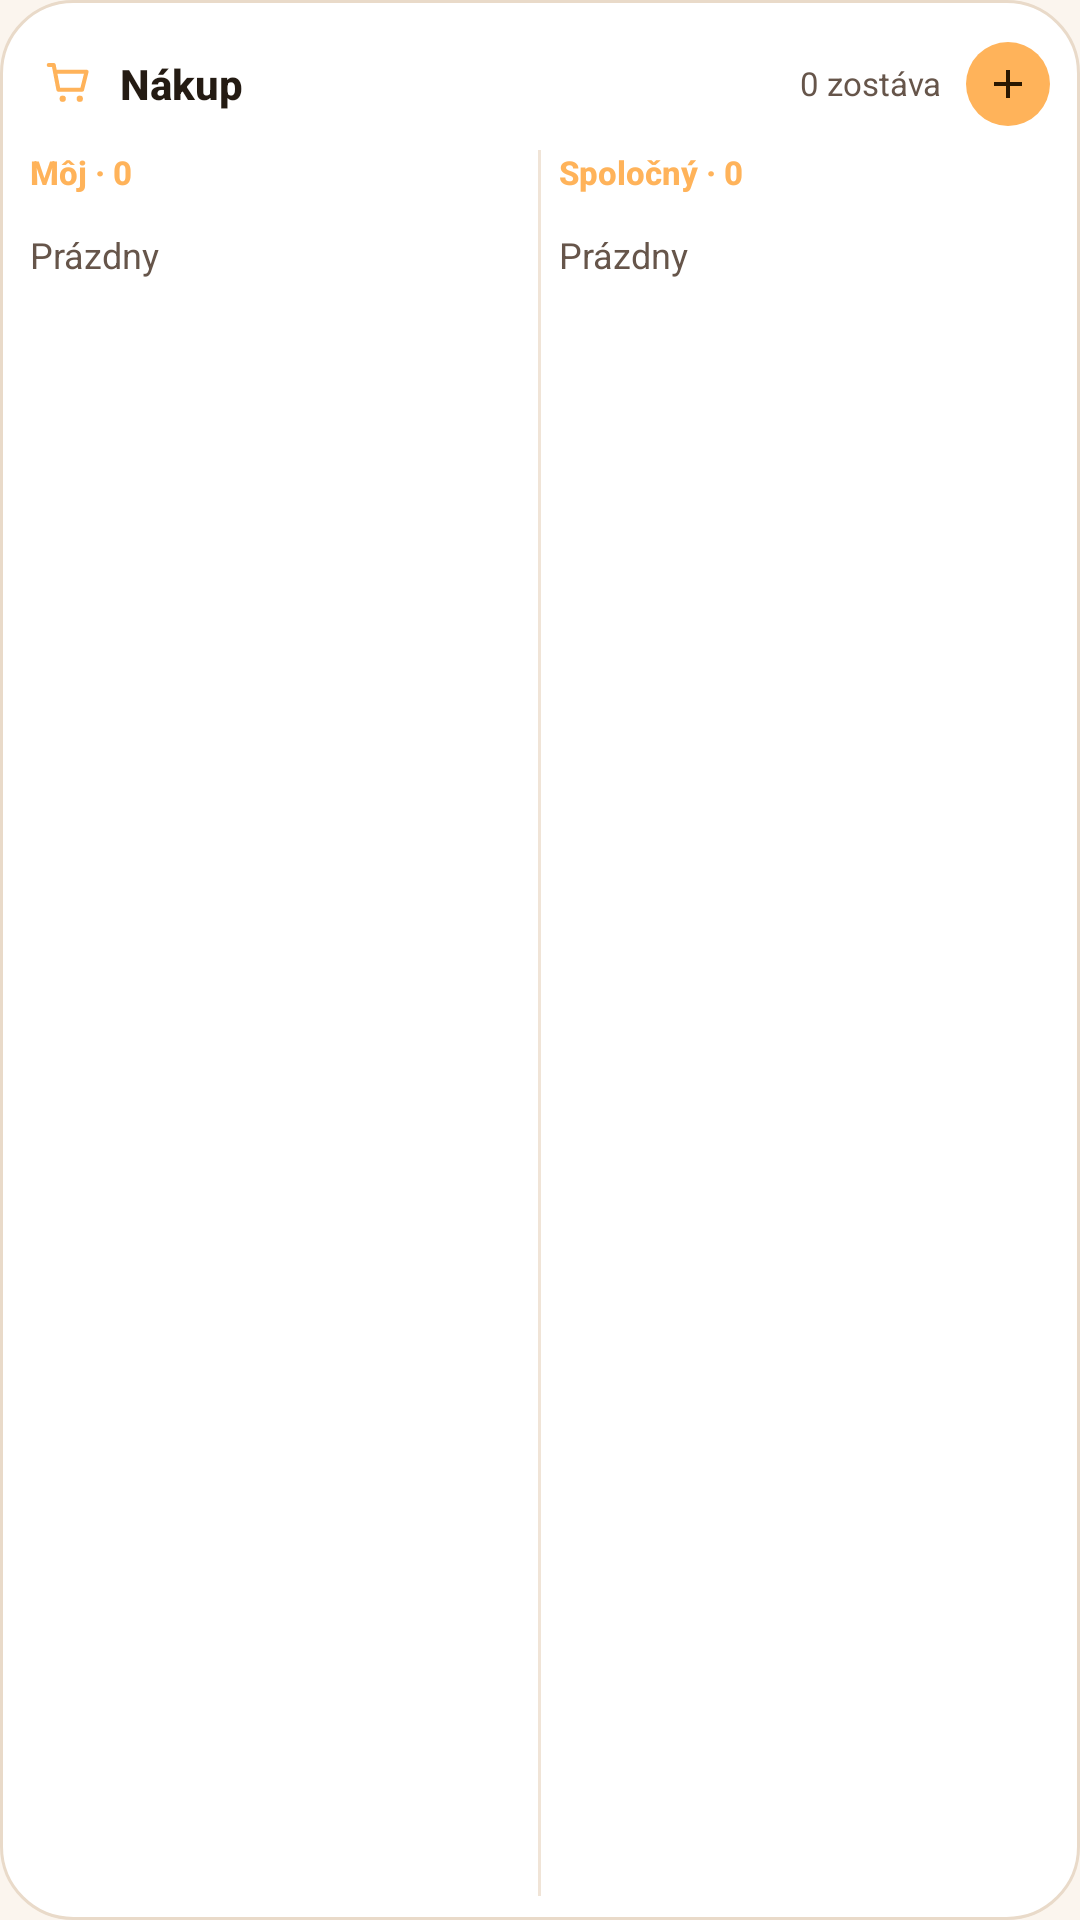

Icon click points for this 1080*1920 phone screenshot, format (x,y):
shop add: (1008,84)
shop cart: (68,82)
